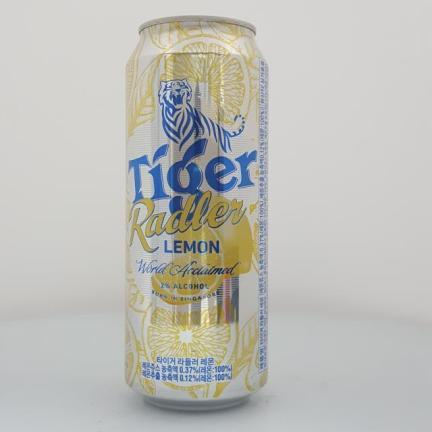can: (125, 17, 268, 410)
